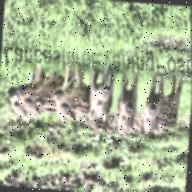boar: (138, 67, 185, 141), (85, 46, 119, 121), (55, 63, 93, 123), (19, 65, 65, 114), (114, 75, 143, 137), (4, 87, 24, 123)
